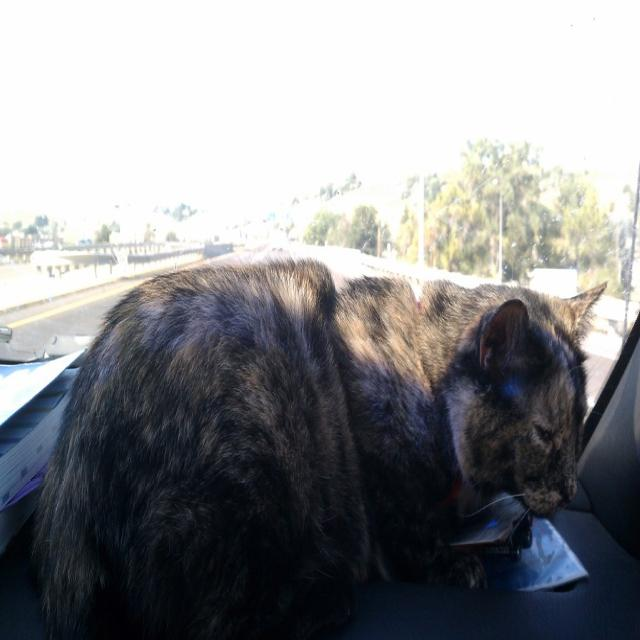Cat: (31, 251, 609, 638)
